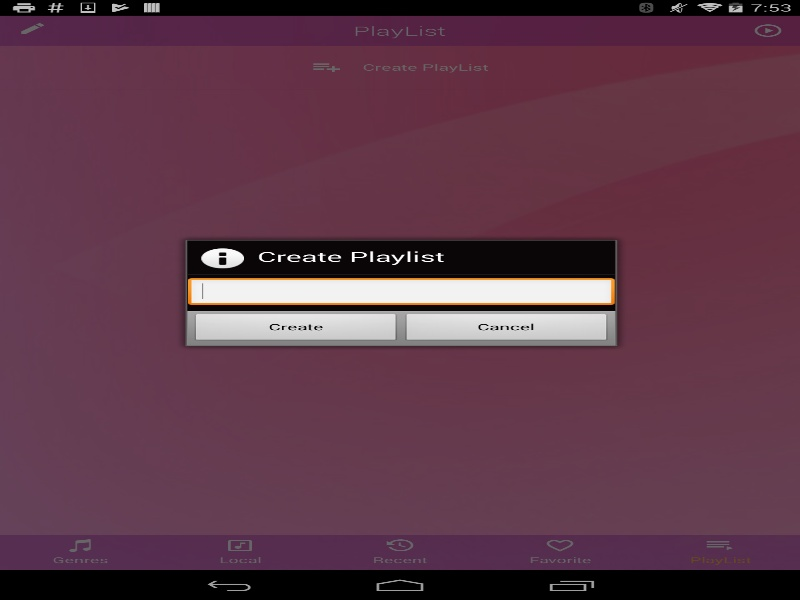Button: (190, 313, 401, 343), (401, 313, 612, 343)
Input: (188, 277, 614, 307)
